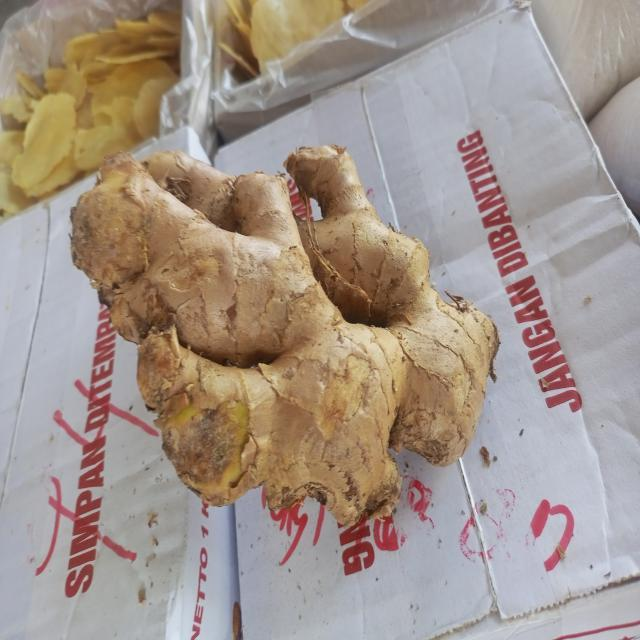ginger: (82, 142, 491, 512)
